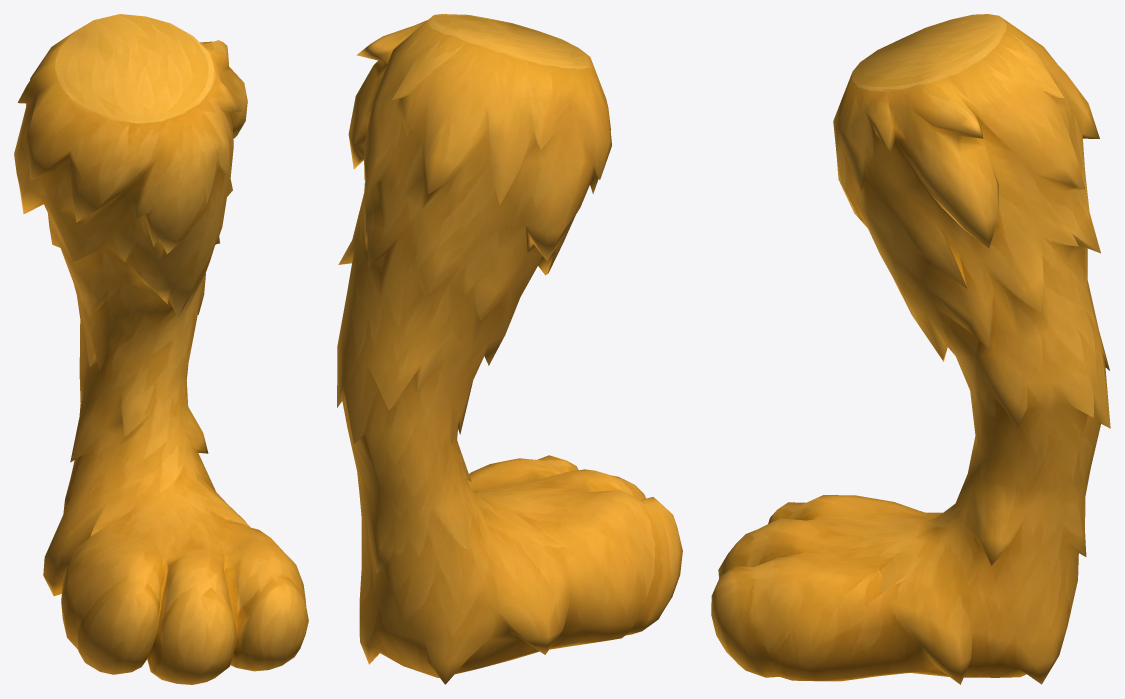
File: griffon_patte_arriere.glb
The picture shows the model from 3 angles, left to right: view 1: azimuth 30°, elevation 25°; view 2: azimuth 150°, elevation 25°; view 3: azimuth 270°, elevation 25°; orthographic projection. The views are drawn at different scales.
Bounding box in the file's own units: 0.3803 × 0.9536 × 0.5552.
1 material, 1 textured.
